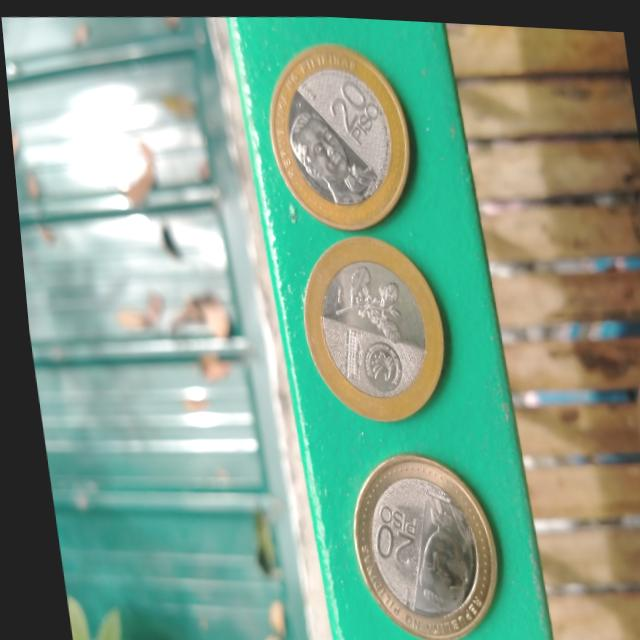20_New_Back: (310, 253, 410, 340)
20_New_Front: (352, 491, 422, 572), (320, 62, 385, 144)
